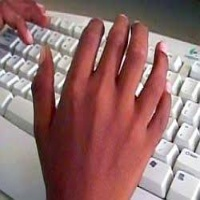ring: (144, 32, 170, 126)
